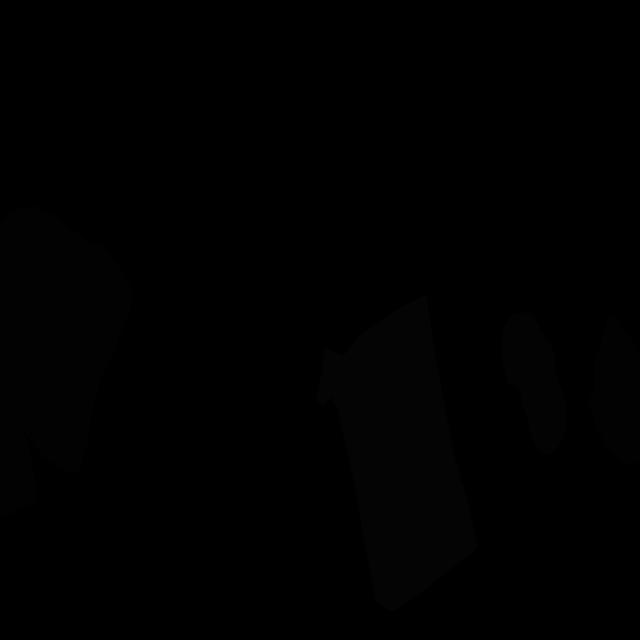cardboard: (0, 205, 134, 474), (587, 315, 640, 464), (0, 407, 36, 519)
metal: (502, 312, 567, 455)
soft_plastic: (316, 294, 478, 612)
